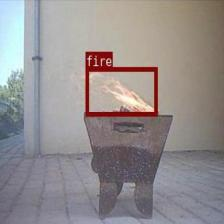fire: (85, 67, 157, 115)
